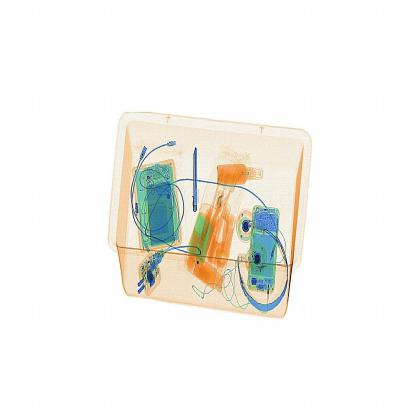pliers: (183, 137, 205, 215)
